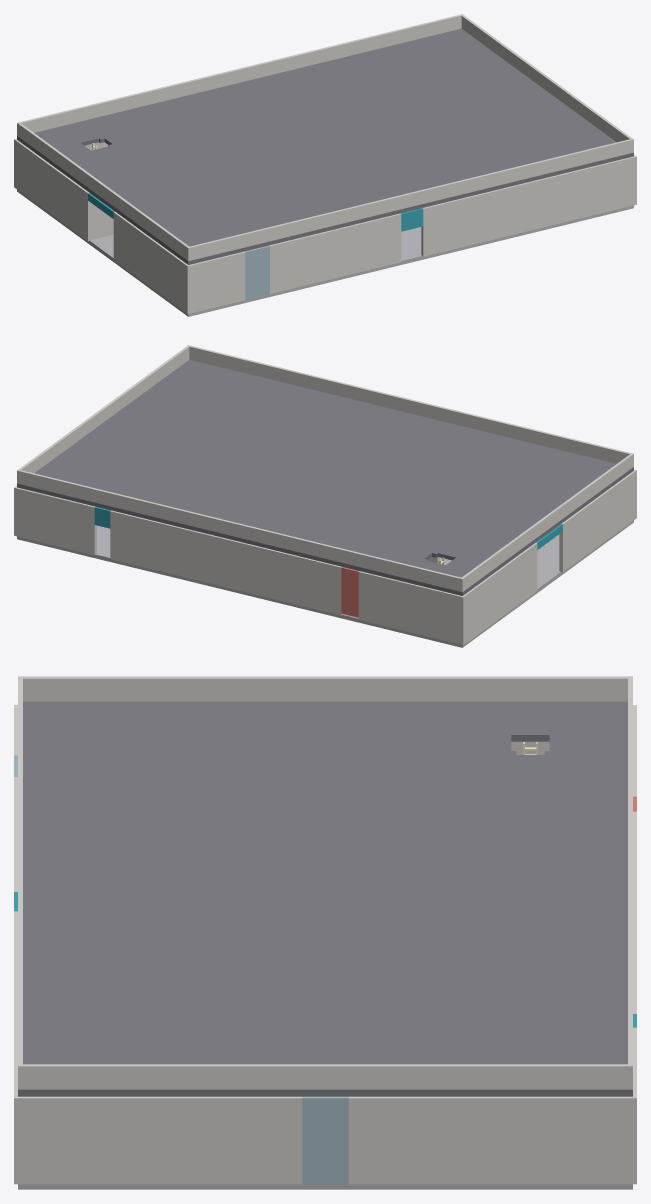
File: marina_a03.glb
The picture shows the model from 3 angles, top to bottom: view 1: azimuth 30°, elevation 25°; view 2: azimuth 150°, elevation 25°; view 3: azimuth 270°, elevation 25°; orthographic projection. The views are drawn at different scales.
Parts seen in each view (by area): view 1: slab_1_t2_4, slab_1_t1_1, slab_1_t1_2, slab_1_t2_1, slab_1_t3_2, slab_1_t3_3, slab_1_t3_5, slab_1_t1_4, slab_1_t3_6, slab_1_t1_3, slab_1_t1_5, slab_1_t2_2 (+87 smaller); view 2: slab_1_t2_4, slab_1_t1_2, slab_1_t1_3, slab_1_t1_5, slab_1_t2_1, slab_1_t3_1, slab_1_t3_2, slab_1_t1_6, slab_1_t3_4, slab_1_t2_2, slab_1_t2_3, slab_1_t2_6 (+85 smaller); view 3: slab_1_t1_4, slab_1_t1_5, slab_1_t2_4, slab_1_t2_5, slab_1_t3_4, slab_1_t3_5, slab_1_t1_1, slab_1_t1_2, slab_1_t1_3, slab_1_t1_6, slab_1_t2_1, slab_1_t2_2 (+60 smaller).
Part boxes in pixels (x1,y1,x2,y2): slab_1_t2_4: (308, 118, 397, 156); slab_1_t1_1: (176, 184, 264, 222); slab_1_t1_2: (231, 170, 320, 208); slab_1_t2_1: (141, 159, 230, 197); slab_1_t3_2: (163, 120, 252, 158); slab_1_t3_3: (218, 106, 307, 144); slab_1_t3_5: (330, 79, 419, 117); slab_1_t1_4: (343, 143, 432, 181); slab_1_t3_6: (386, 66, 474, 104); slab_1_t1_3: (287, 156, 376, 195); slab_1_t1_5: (398, 129, 487, 167); slab_1_t2_2: (197, 145, 286, 183); slab_1_t2_4: (253, 449, 342, 487); slab_1_t1_2: (398, 451, 487, 489); slab_1_t1_3: (343, 437, 432, 475); slab_1_t1_5: (231, 410, 320, 448); slab_1_t2_1: (420, 490, 509, 528); slab_1_t3_1: (386, 515, 474, 553); slab_1_t3_2: (330, 501, 419, 539); slab_1_t1_6: (176, 397, 264, 435); slab_1_t3_4: (218, 474, 307, 512); slab_1_t2_2: (364, 476, 453, 514); slab_1_t2_3: (309, 462, 397, 500); slab_1_t2_6: (141, 422, 230, 460); slab_1_t1_4: (141, 894, 263, 943); slab_1_t1_5: (141, 943, 263, 992); slab_1_t2_4: (264, 894, 386, 943); slab_1_t2_5: (264, 943, 386, 992); slab_1_t3_4: (387, 894, 509, 943); slab_1_t3_5: (387, 943, 509, 992); slab_1_t1_1: (141, 748, 263, 796); slab_1_t1_2: (141, 797, 263, 845); slab_1_t1_3: (141, 846, 263, 894); slab_1_t1_6: (141, 992, 263, 1040); slab_1_t2_1: (264, 748, 386, 796); slab_1_t2_2: (264, 797, 386, 845).
Size of what is drawn, in the model's own units: 36.3 by 5.3 by 24.3.
